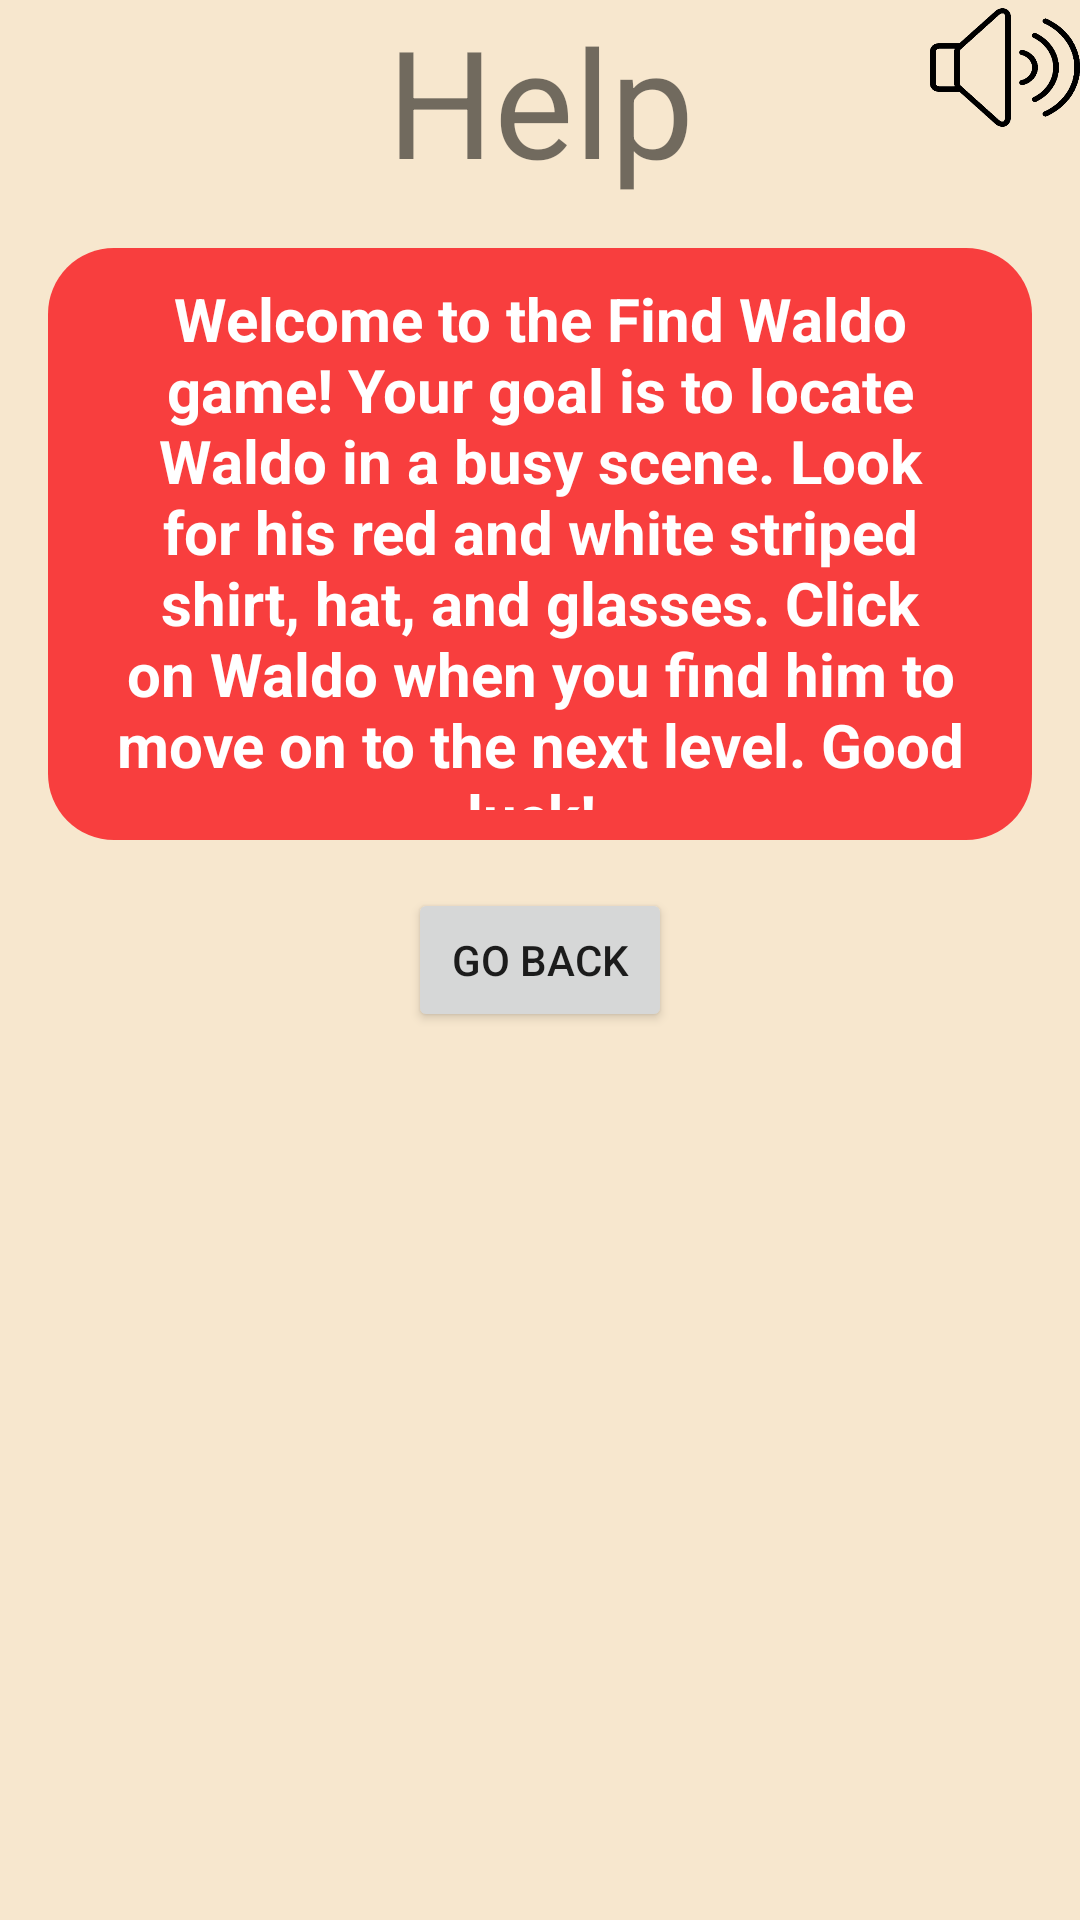

Where to tap for icons on this 1080px×1920px app screen, as point (x, y):
audio on: point (1005, 67)
